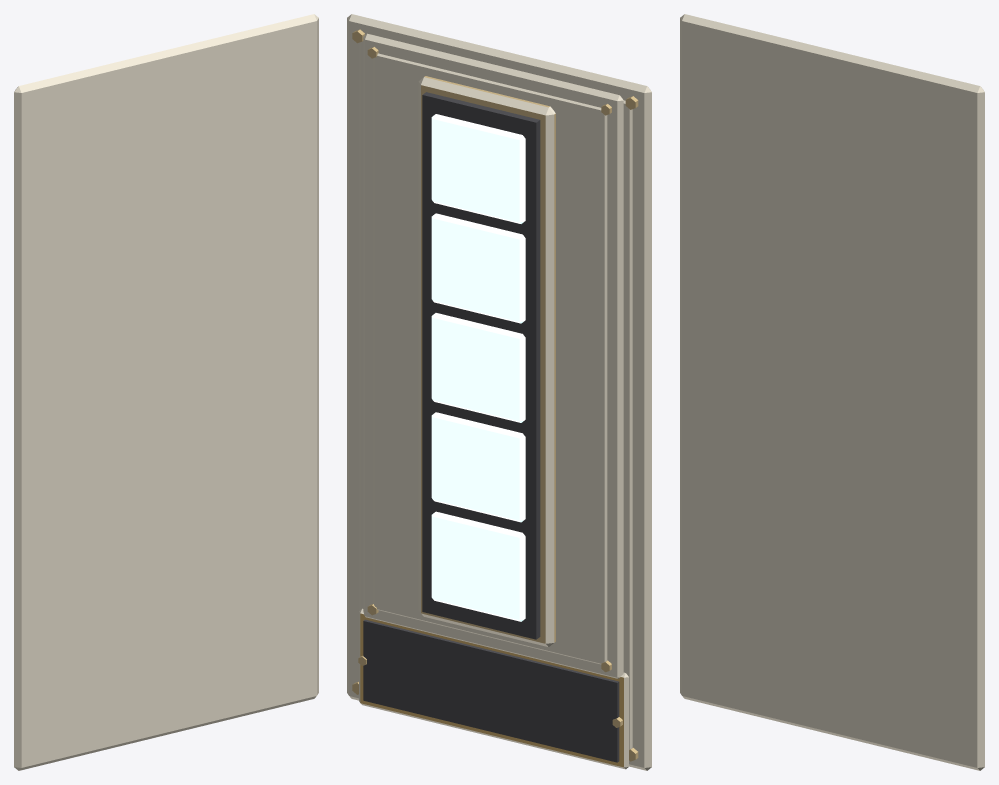
The model's file is Disp_Bar_1x2.fbx.
3 views of the same model, side by side, from view 1: azimuth 30°, elevation 25°; view 2: azimuth 150°, elevation 25°; view 3: azimuth 330°, elevation 25° (orthographic).
Visible parts, largest first — view 1: Disp_Bar_1x2; view 2: Disp_Bar_1x2, Seg1.001, Seg0.001, Seg2.001, Seg3.001, Seg4.001; view 3: Disp_Bar_1x2.
Part boxes in pixels (x1,y1,x2,y2): Disp_Bar_1x2: [14, 14, 318, 770]; Disp_Bar_1x2: [347, 14, 651, 770]; Seg1.001: [431, 412, 525, 522]; Seg0.001: [431, 511, 525, 621]; Seg2.001: [431, 313, 525, 422]; Seg3.001: [431, 213, 525, 323]; Seg4.001: [431, 114, 525, 223]; Disp_Bar_1x2: [680, 14, 984, 770].
Size of the model in its own units: 0.96 by 2.06 by 0.1418.
